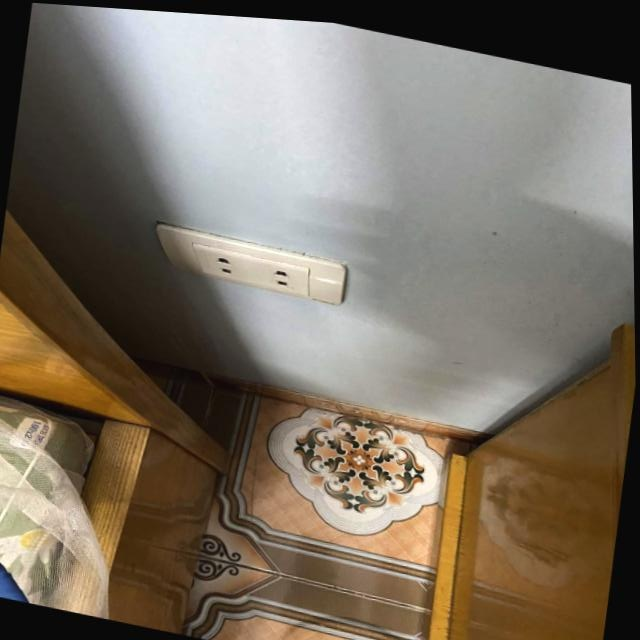outlet: (150, 221, 350, 309)
